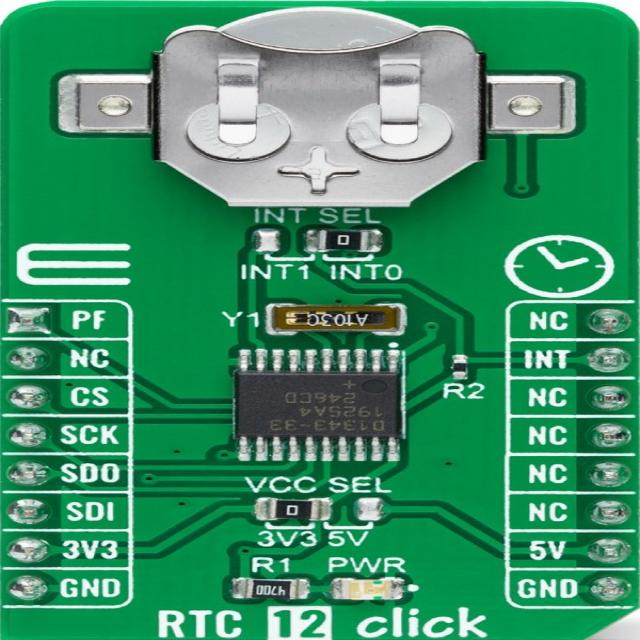IC: (235, 356, 398, 441)
LED: (340, 576, 413, 598)
battery: (126, 5, 543, 217)
clock Q1: (268, 300, 404, 332)
resistor IR1: (316, 229, 384, 256), (248, 581, 302, 604), (267, 501, 323, 522), (442, 355, 473, 388)
